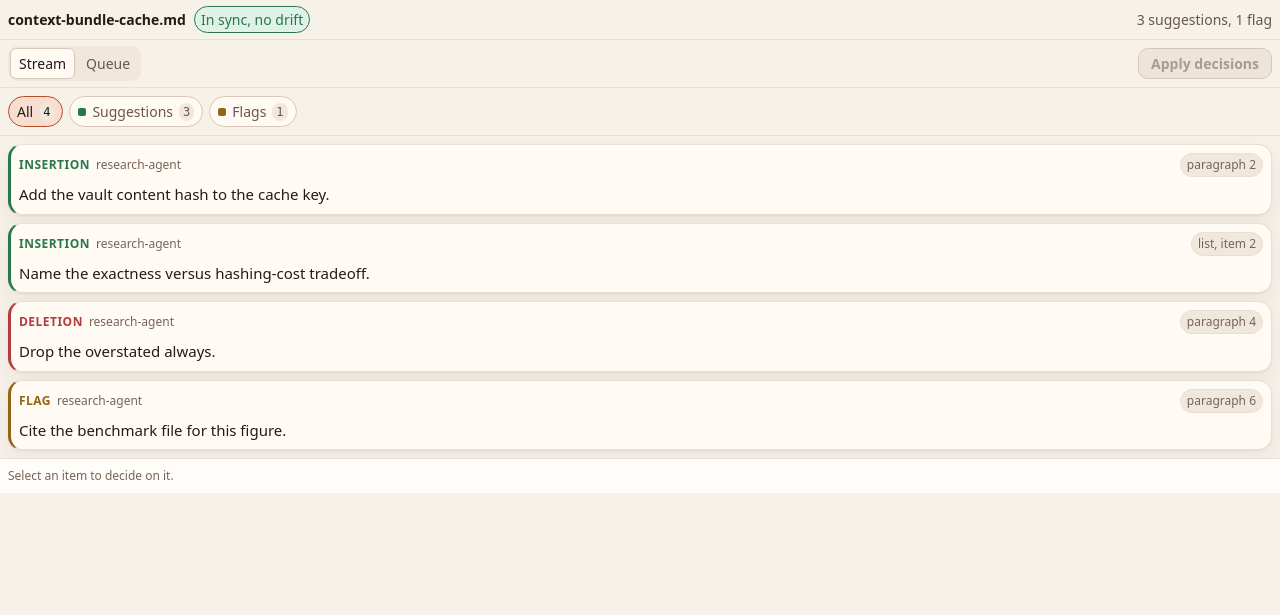
it: ReviewPanel › selects an unselected Stream item before revealing its passage
Expected: the text "Add the vault content hash to the cache key." is shown, [19,184,330,204]
Click the button with aria-label "Go to list, item 2 in the document": coordinates (1227, 244) [1191,232,1263,256]
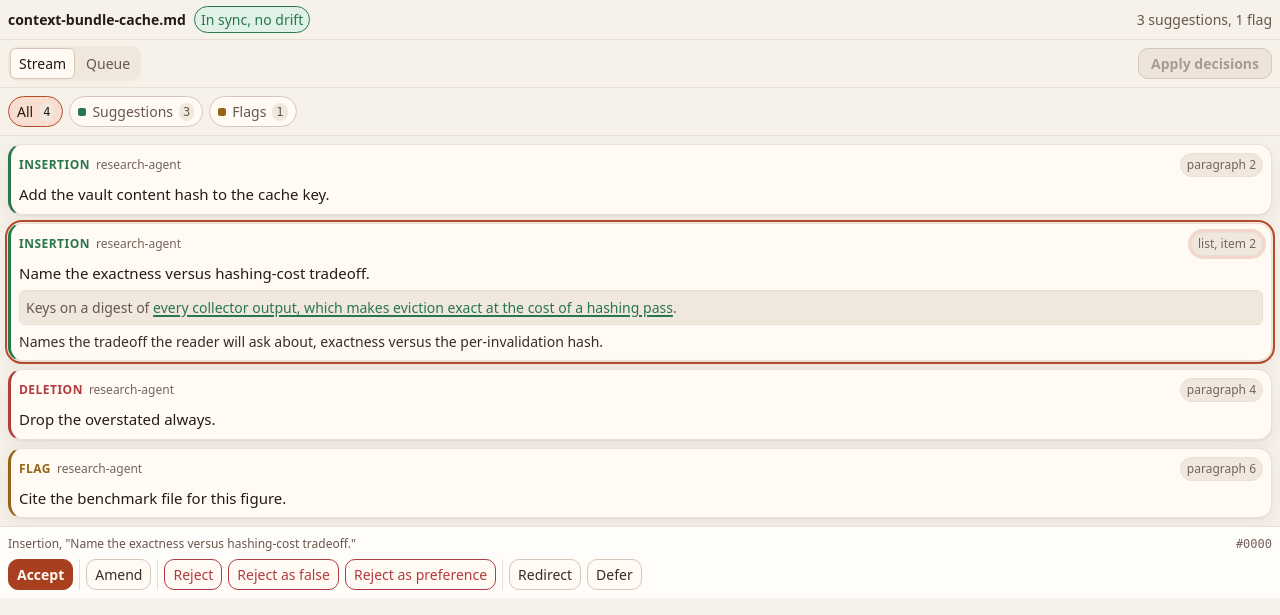
Expected: the button "Name the exactness versus hashing-cost tradeoff." is shown, [19,262,1263,290]
Now the button "Accept" is shown, box [8,559,73,590]
